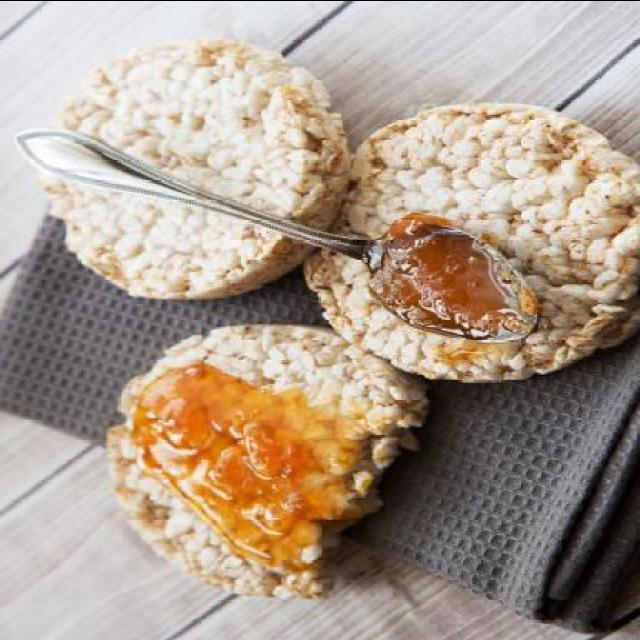Gallette di riso packaged: (307, 86, 639, 377), (87, 321, 416, 601), (25, 31, 333, 302)
